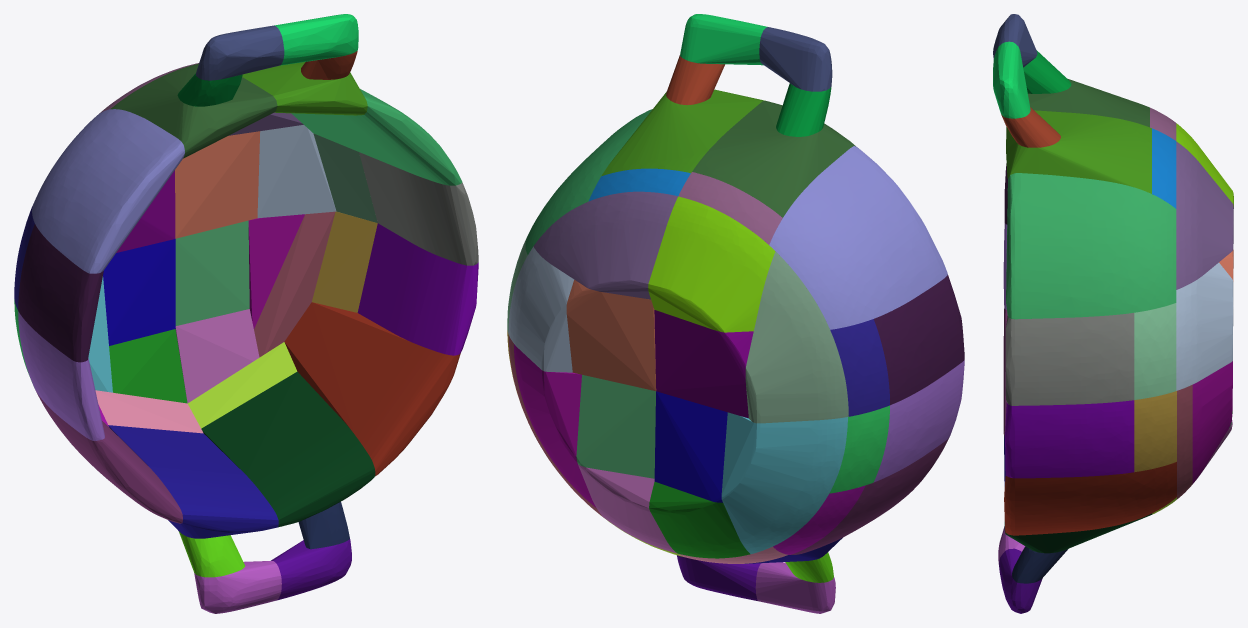
The model's file is coacd_collision.obj.
3 renders of one model, left to right at view 1: azimuth 30°, elevation 25°; view 2: azimuth 150°, elevation 25°; view 3: azimuth 270°, elevation 25°, orthographic. The views are drawn at different scales.
Parts seen in each view (by area): view 1: geometry_15, geometry_12, geometry_25, geometry_32, geometry_20, geometry_35, geometry_9, geometry_26, geometry_3, geometry_19, geometry_10, geometry_5 (+24 smaller); view 2: geometry_12, geometry_2, geometry_0, geometry_4, geometry_1, geometry_19, geometry_9, geometry_11, geometry_26, geometry_3, geometry_30, geometry_5 (+21 smaller); view 3: geometry_10, geometry_35, geometry_32, geometry_15, geometry_30, geometry_1, geometry_6, geometry_39, geometry_14, geometry_37, geometry_19, geometry_23 (+12 smaller).
Part boxes in pixels (x1=…): geometry_15: x1=284, y1=302, x2=460, y2=476; geometry_12: x1=32, y1=109, x2=184, y2=273; geometry_25: x1=201, y1=371, x2=375, y2=527; geometry_32: x1=357, y1=223, x2=478, y2=355; geometry_20: x1=108, y1=425, x2=278, y2=538; geometry_35: x1=359, y1=152, x2=478, y2=265; geometry_9: x1=175, y1=131, x2=260, y2=238; geometry_26: x1=18, y1=224, x2=103, y2=362; geometry_3: x1=175, y1=220, x2=249, y2=325; geometry_19: x1=110, y1=63, x2=277, y2=158; geometry_10: x1=291, y1=89, x2=462, y2=185; geometry_5: x1=103, y1=239, x2=175, y2=345; geometry_12: x1=769, y1=146, x2=947, y2=329; geometry_2: x1=721, y1=412, x2=847, y2=553; geometry_0: x1=745, y1=251, x2=848, y2=423; geometry_4: x1=648, y1=196, x2=775, y2=332; geometry_1: x1=533, y1=191, x2=677, y2=299; geometry_19: x1=692, y1=101, x2=855, y2=217; geometry_9: x1=566, y1=280, x2=656, y2=390; geometry_11: x1=654, y1=310, x2=753, y2=418; geometry_26: x1=874, y1=275, x2=964, y2=405; geometry_3: x1=576, y1=375, x2=655, y2=478; geometry_30: x1=601, y1=89, x2=765, y2=176; geometry_5: x1=654, y1=391, x2=727, y2=502; geometry_10: x1=1006, y1=173, x2=1176, y2=319; geometry_35: x1=1005, y1=313, x2=1134, y2=405; geometry_32: x1=1005, y1=400, x2=1134, y2=478; geometry_15: x1=1004, y1=462, x2=1176, y2=535; geometry_30: x1=1006, y1=110, x2=1151, y2=193; geometry_1: x1=1176, y1=141, x2=1233, y2=289; geometry_6: x1=1176, y1=262, x2=1233, y2=390; geometry_39: x1=1134, y1=303, x2=1176, y2=399; geometry_14: x1=1192, y1=361, x2=1232, y2=483; geometry_37: x1=1134, y1=391, x2=1176, y2=472; geometry_19: x1=1028, y1=78, x2=1149, y2=127; geometry_23: x1=993, y1=41, x2=1030, y2=118.
Size of the model in its own units: 146 by 199 by 79.66.
